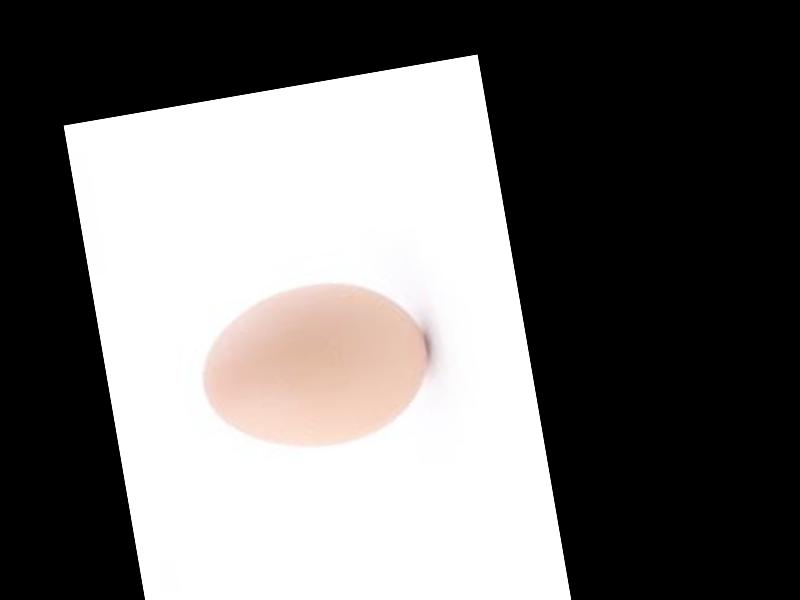Eggs: (190, 265, 439, 464)
